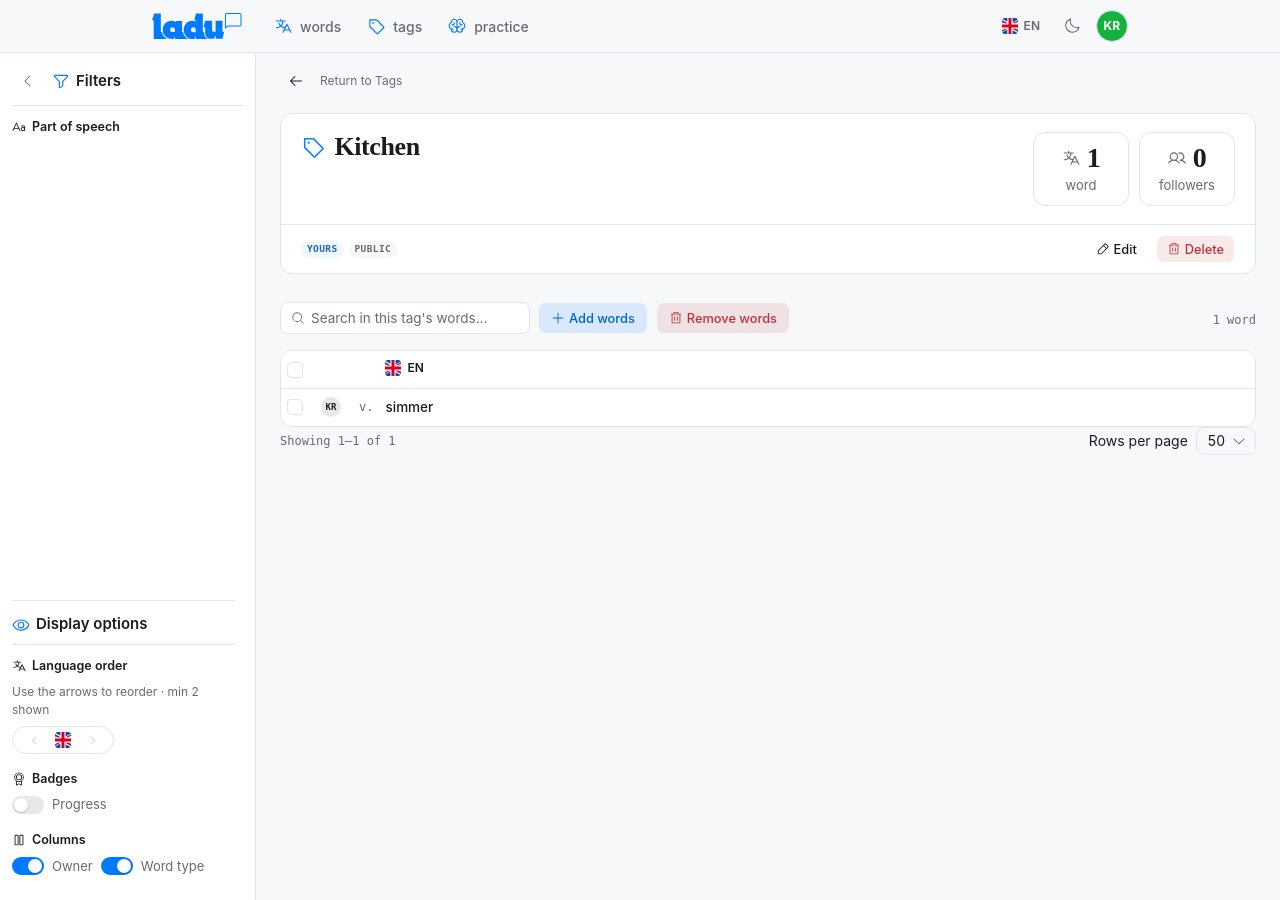
Test: TagViewPage — owned tag › Edit opens the edit dialog directly and does not turn on remove mode
Expected: the button "simmer" is shown, [382,395,437,420]
Click the button "Edit".
click(1116, 249)  # box [1084,235,1148,263]
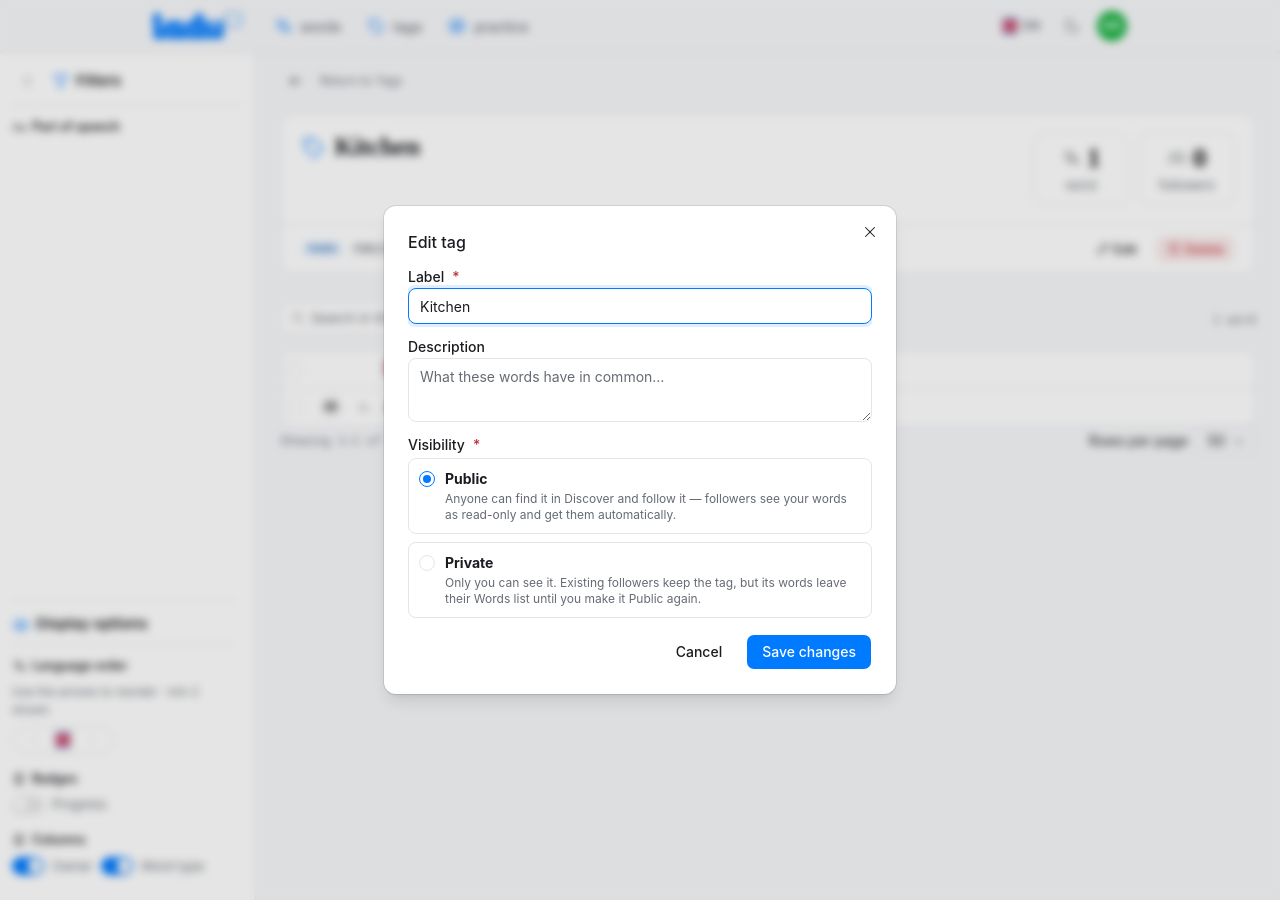
Now the field labelled "Label *" holds "Kitchen", box [408,288,872,324]
